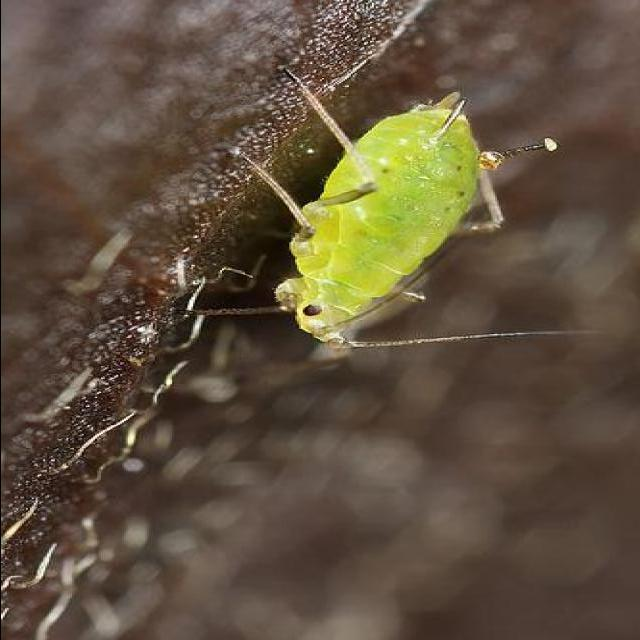aphid: (198, 58, 544, 372)
